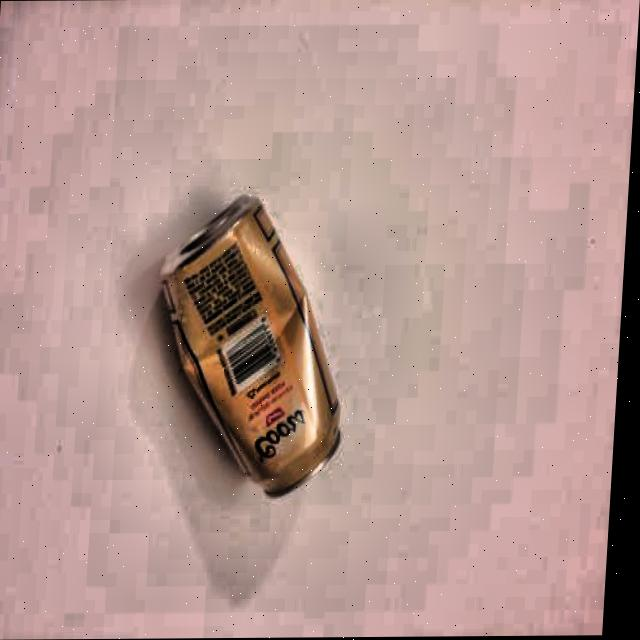metal: (142, 193, 358, 499)
